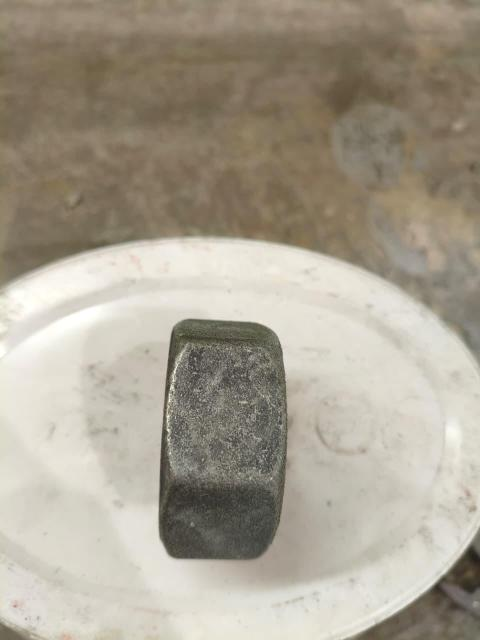Metal: (157, 313, 285, 562)
